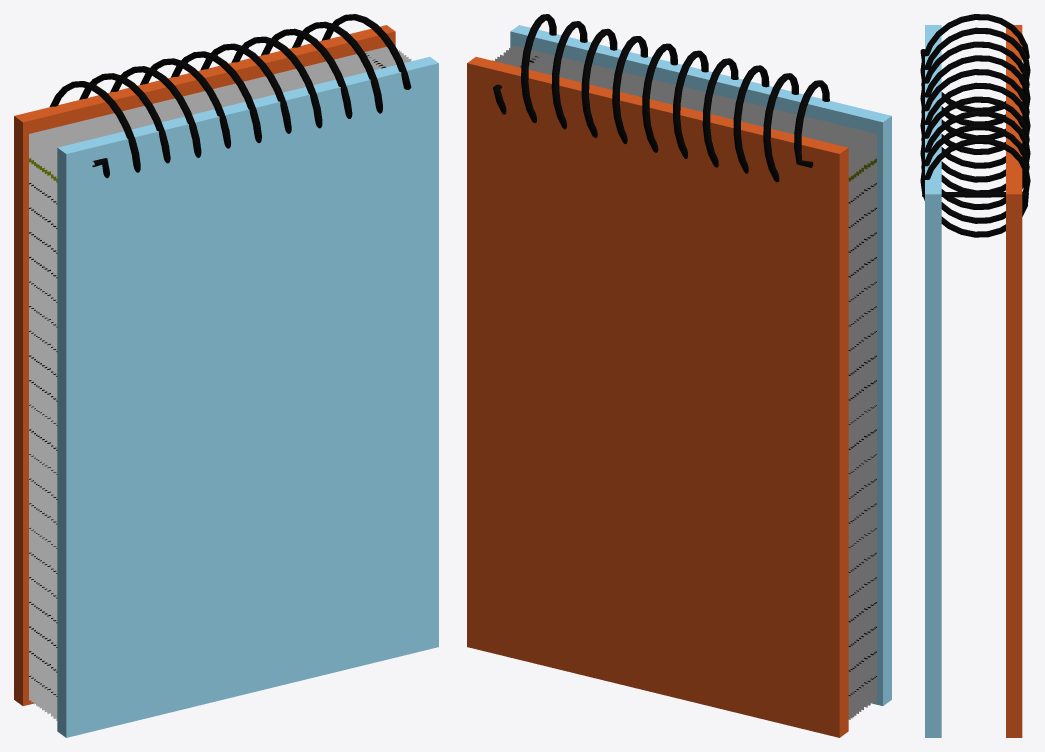
The model's file is note.FBX.
3 renders of one model, left to right at view 1: azimuth 30°, elevation 25°; view 2: azimuth 150°, elevation 25°; view 3: azimuth 270°, elevation 25°, orthographic. The views are drawn at different scales.
Parts seen in each view (by area): view 1: Cube, Object001, Spiral_001, Plane_008, Plane_007, Plane, Plane_005, Plane_006, Plane_001, Plane_004, Plane_002, Plane_003 (+3 smaller); view 2: Object001, Cube, Spiral_001, Plane_009, Plane_012, Plane_007, Plane_008, Plane_010, Plane_006, Plane_005, Plane_015, Plane_004 (+5 smaller); view 3: Spiral_001, Object001, Cube.
Boxes of the visible parts, box(x1,y1,x2,y2) form: Cube: box(57, 57, 438, 737); Object001: box(14, 25, 395, 705); Spiral_001: box(49, 14, 411, 178); Plane_008: box(47, 58, 411, 713); Plane_007: box(44, 57, 408, 711); Plane: box(29, 46, 388, 700); Plane_005: box(39, 53, 403, 708); Plane_006: box(42, 55, 406, 710); Plane_001: box(31, 49, 389, 702); Plane_004: box(37, 51, 401, 706); Plane_002: box(34, 49, 397, 704); Plane_003: box(36, 50, 399, 705); Object001: box(467, 57, 848, 737); Cube: box(510, 25, 891, 705); Spiral_001: box(493, 14, 829, 182); Plane_009: box(503, 52, 867, 707); Plane_012: box(509, 48, 873, 703); Plane_007: box(497, 56, 861, 711); Plane_008: box(500, 55, 863, 710); Plane_010: box(506, 50, 869, 705); Plane_006: box(495, 58, 858, 713); Plane_005: box(492, 60, 856, 715); Plane_015: box(511, 46, 875, 701); Plane_004: box(848, 149, 854, 717); Spiral_001: box(920, 14, 1030, 237); Object001: box(1006, 25, 1022, 737); Cube: box(925, 25, 941, 737).
Size of the model in its own units: 0.9834 by 1.57 by 0.2703.
